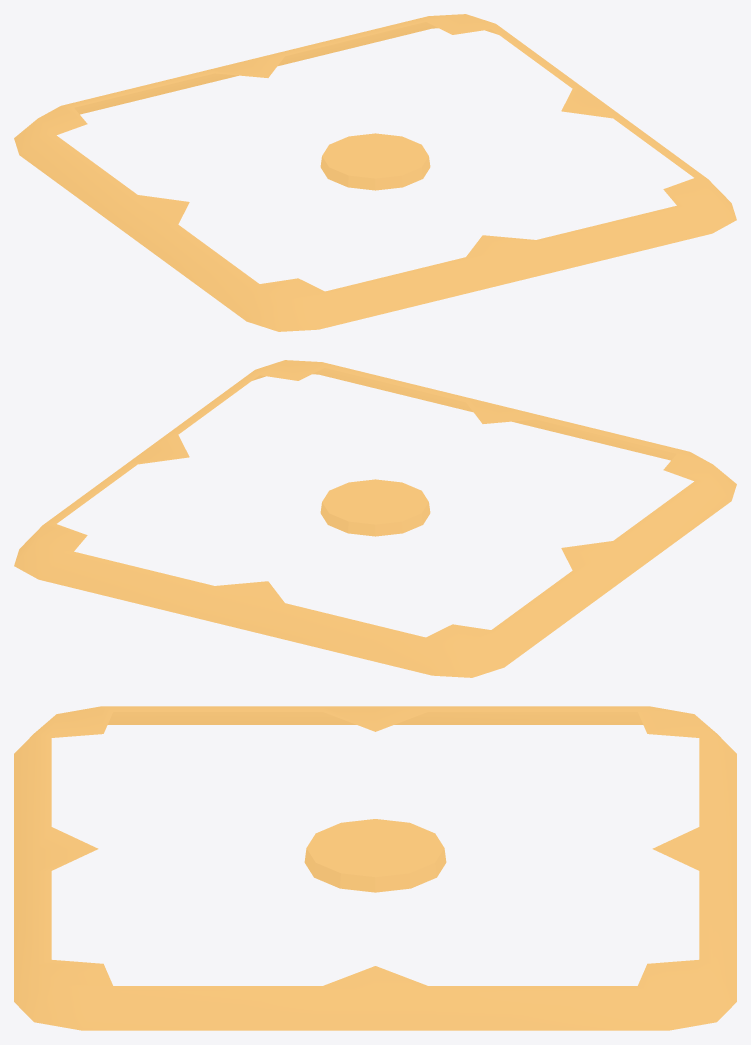
The model's file is cell_hover.glb.
The picture shows the model from 3 angles, top to bottom: view 1: azimuth 30°, elevation 25°; view 2: azimuth 150°, elevation 25°; view 3: azimuth 270°, elevation 25°; orthographic projection. The views are drawn at different scales.
Parts seen in each view (by area): view 1: cell_hover; view 2: cell_hover; view 3: cell_hover.
Part boxes in pixels (x1,y1,x2,y2): cell_hover: (14, 14, 736, 331); cell_hover: (14, 360, 736, 677); cell_hover: (14, 706, 736, 1030).
Size of the model in its own units: 0.898 by 0.0409 by 0.898.
